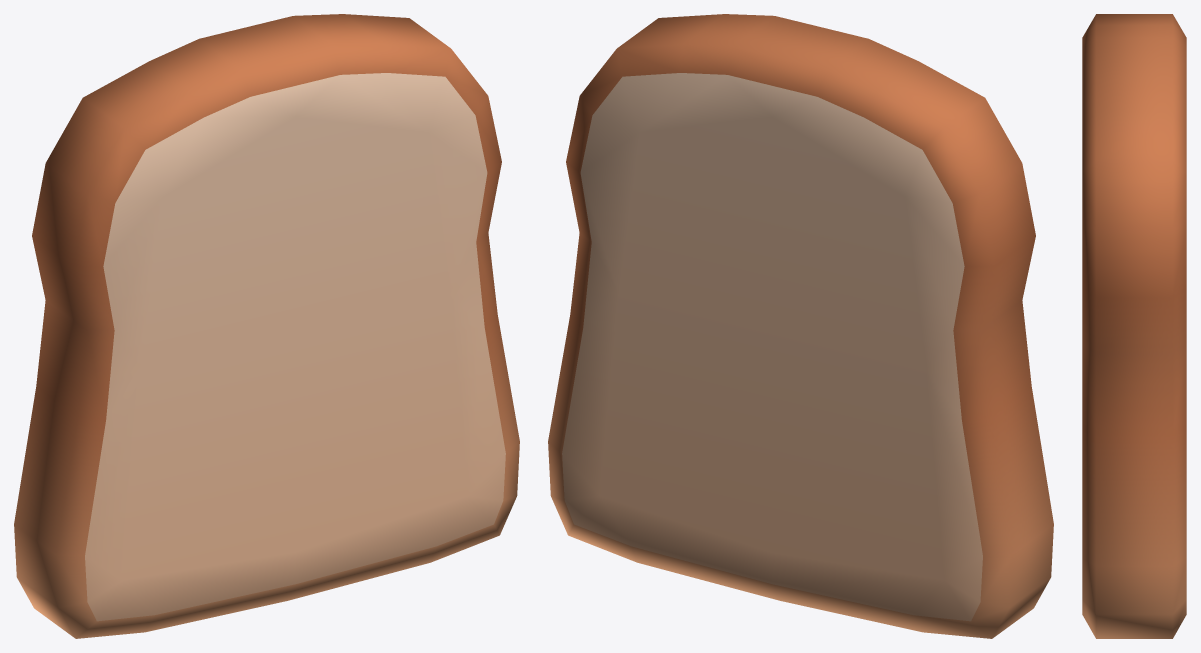
Rendered from bread_slice.obj.
3 renders of one model, left to right at view 1: azimuth 30°, elevation 25°; view 2: azimuth 150°, elevation 25°; view 3: azimuth 270°, elevation 25°, orthographic. The views are drawn at different scales.
Visible parts, largest first — view 1: bread_slice; view 2: bread_slice; view 3: bread_slice.
Boxes of the visible parts, x1,y1,x2,y2 form: bread_slice: [14, 14, 519, 638]; bread_slice: [548, 14, 1053, 638]; bread_slice: [1082, 14, 1186, 638].
Bounding box in the file's own units: 0.4612 × 0.5155 × 0.0979.
Materials: 1 (1 with a texture image).
